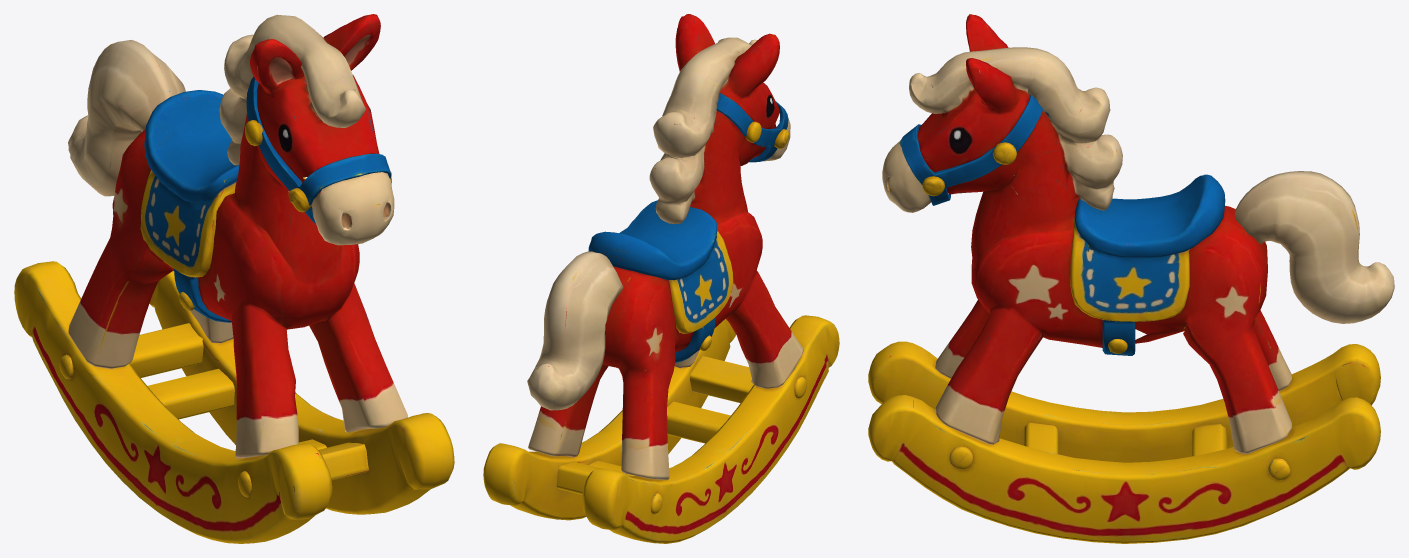
File: rocking_horse.glb
3 views of the same model, side by side, from view 1: azimuth 30°, elevation 25°; view 2: azimuth 150°, elevation 25°; view 3: azimuth 270°, elevation 25° (orthographic). The views are drawn at different scales.
Size of what is drawn, in the model's own units: 0.3321 by 1 by 1.
1 material, 1 textured.
